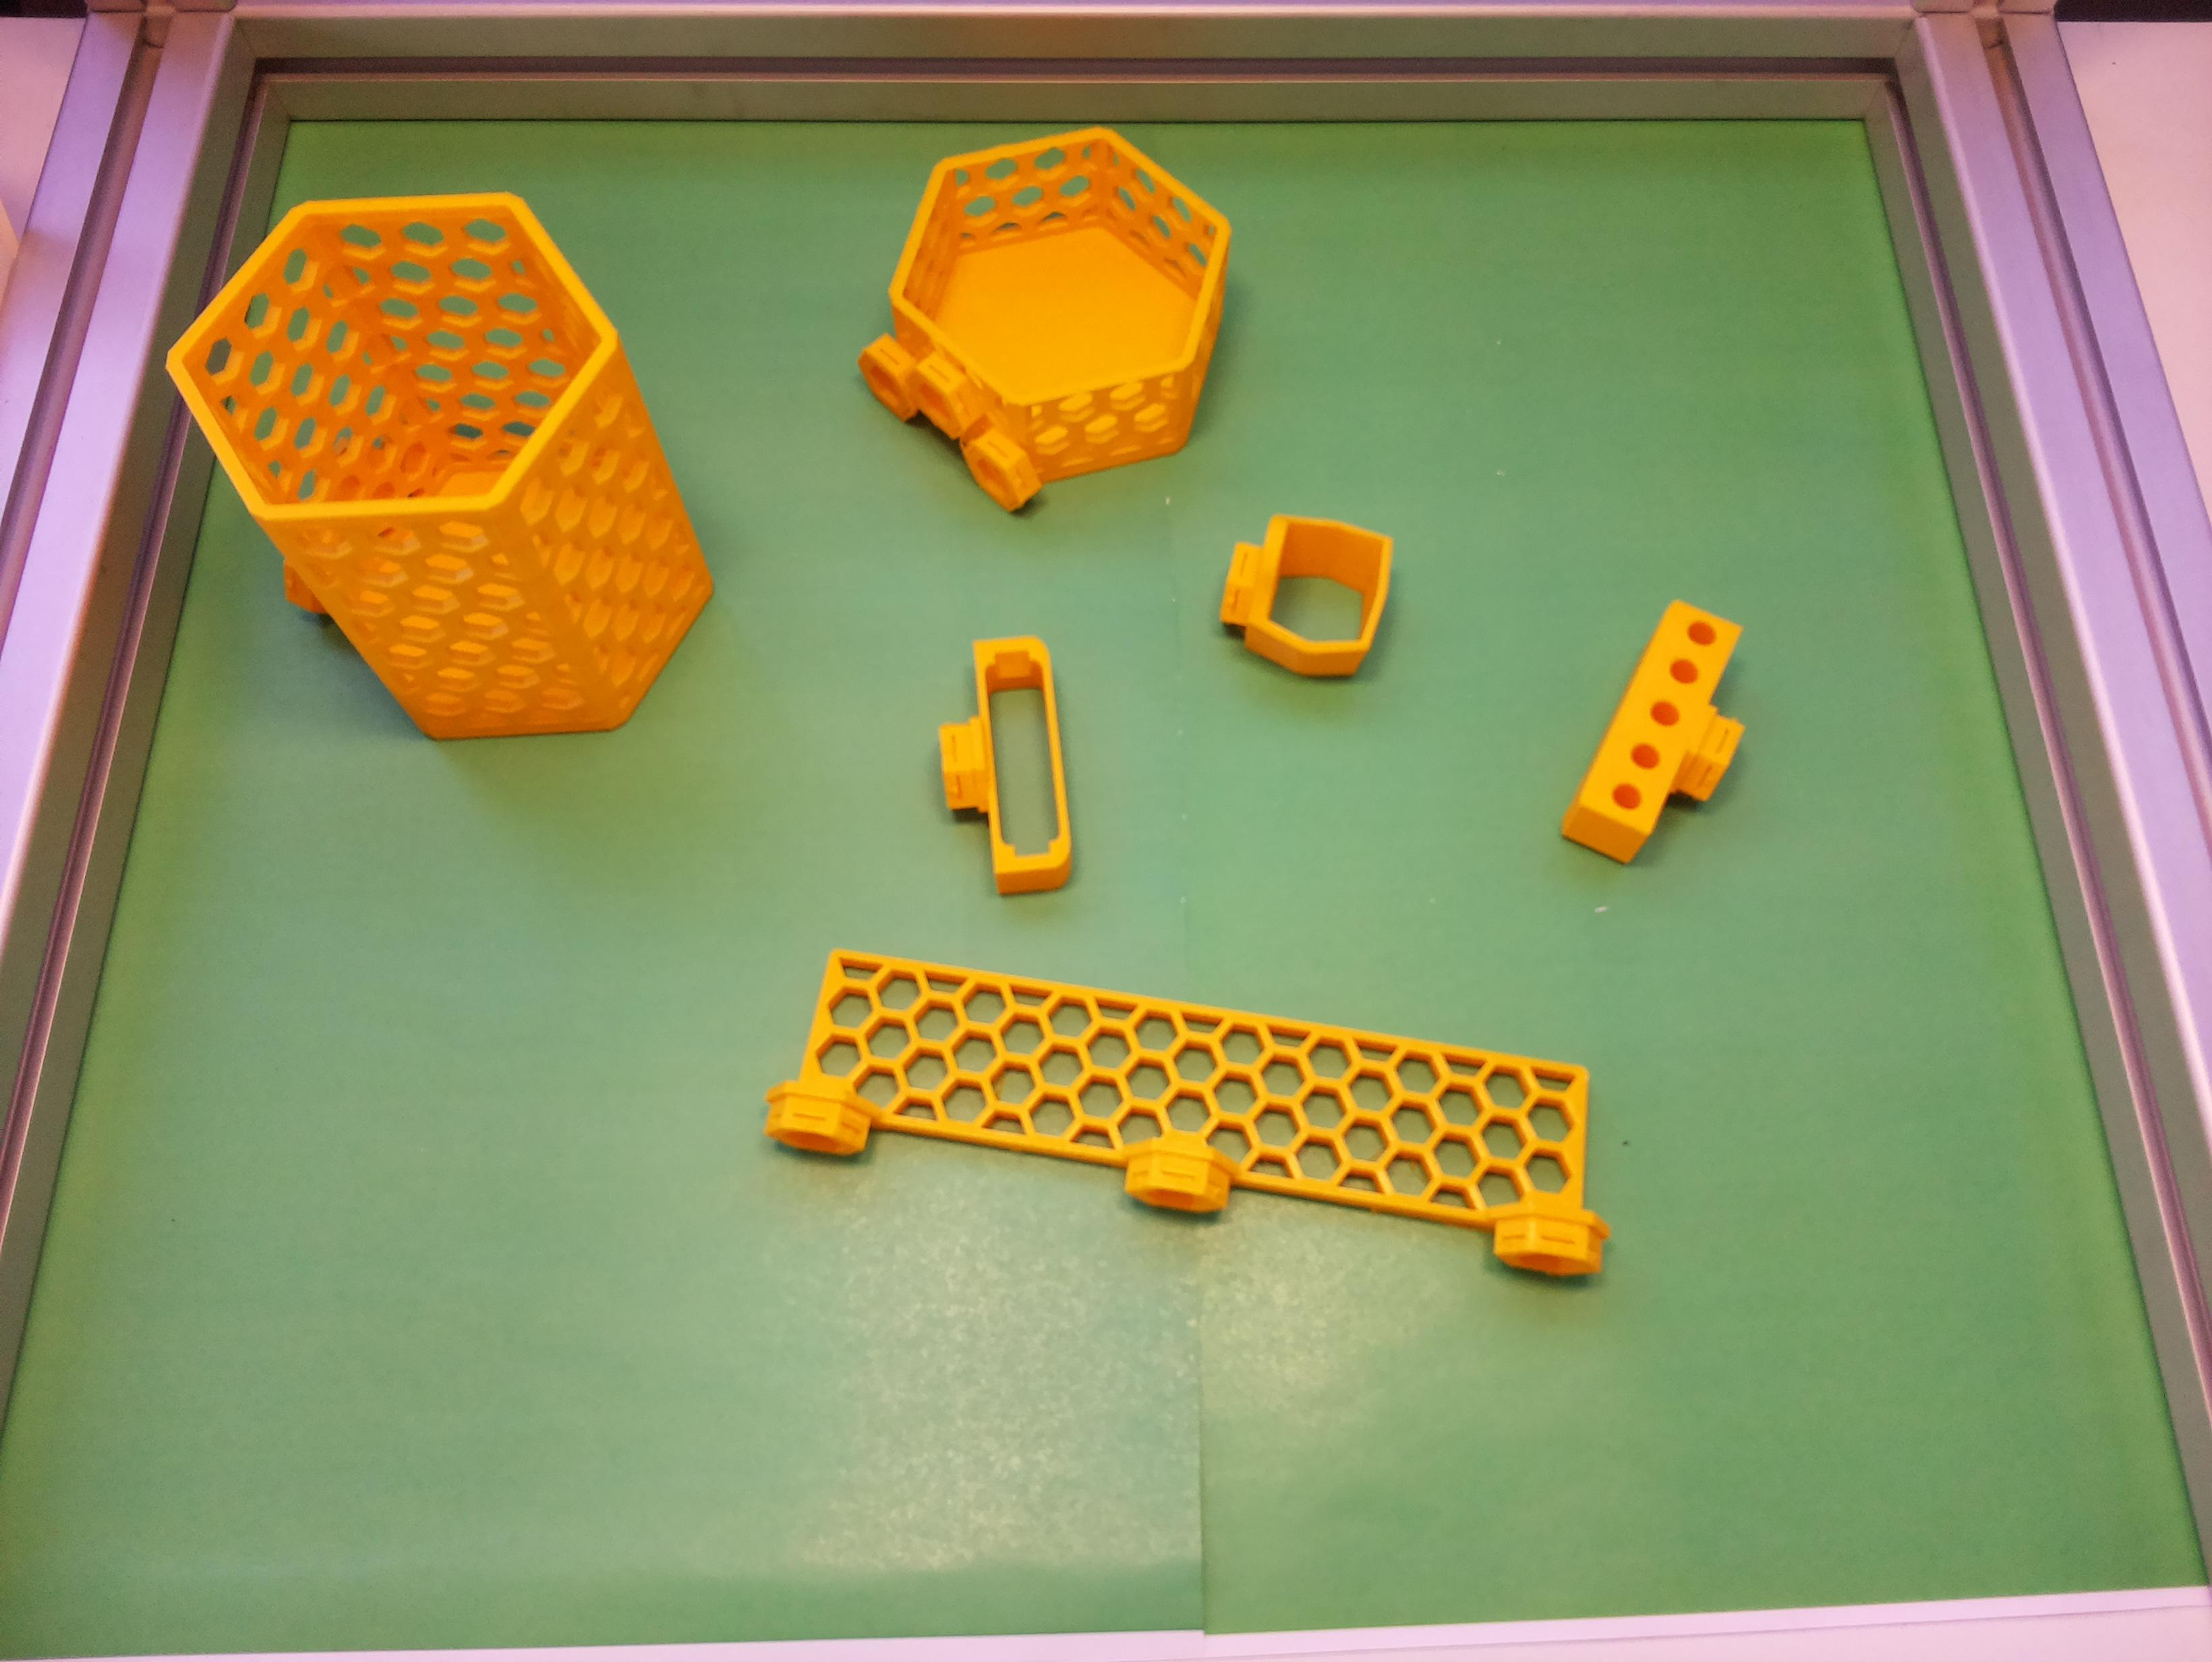bit_holder: (1556, 592, 1781, 887)
bottle_holder: (822, 73, 1285, 564)
cup_holder: (129, 105, 773, 834)
cutter_holder: (929, 634, 1077, 901)
scissor_holder: (1206, 496, 1404, 691)
tool_holder: (758, 939, 1634, 1283)
